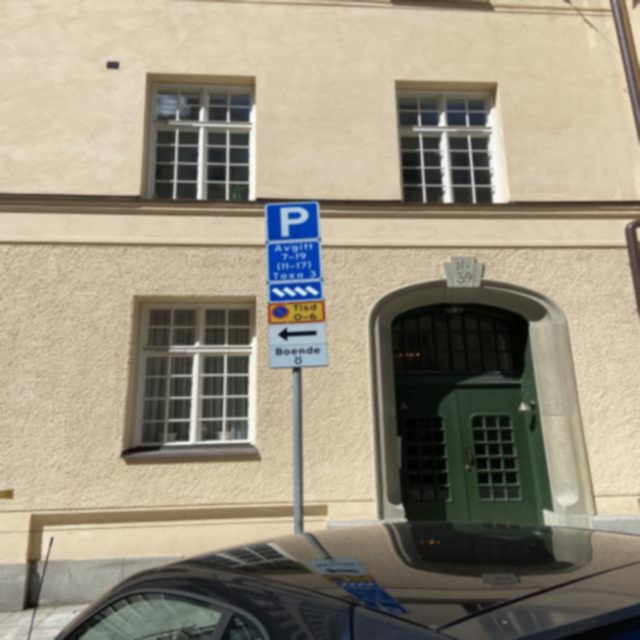P-skylt: (266, 199, 319, 244)
